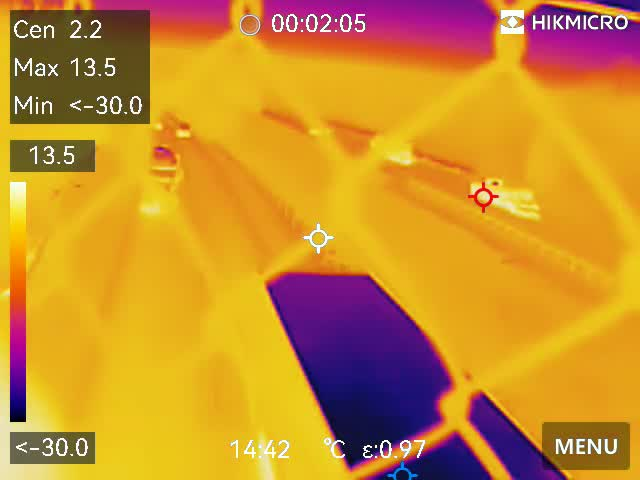heavyTruck: (237, 269, 569, 480)
vehicle: (461, 174, 536, 215), (148, 142, 180, 197), (172, 120, 192, 140)
